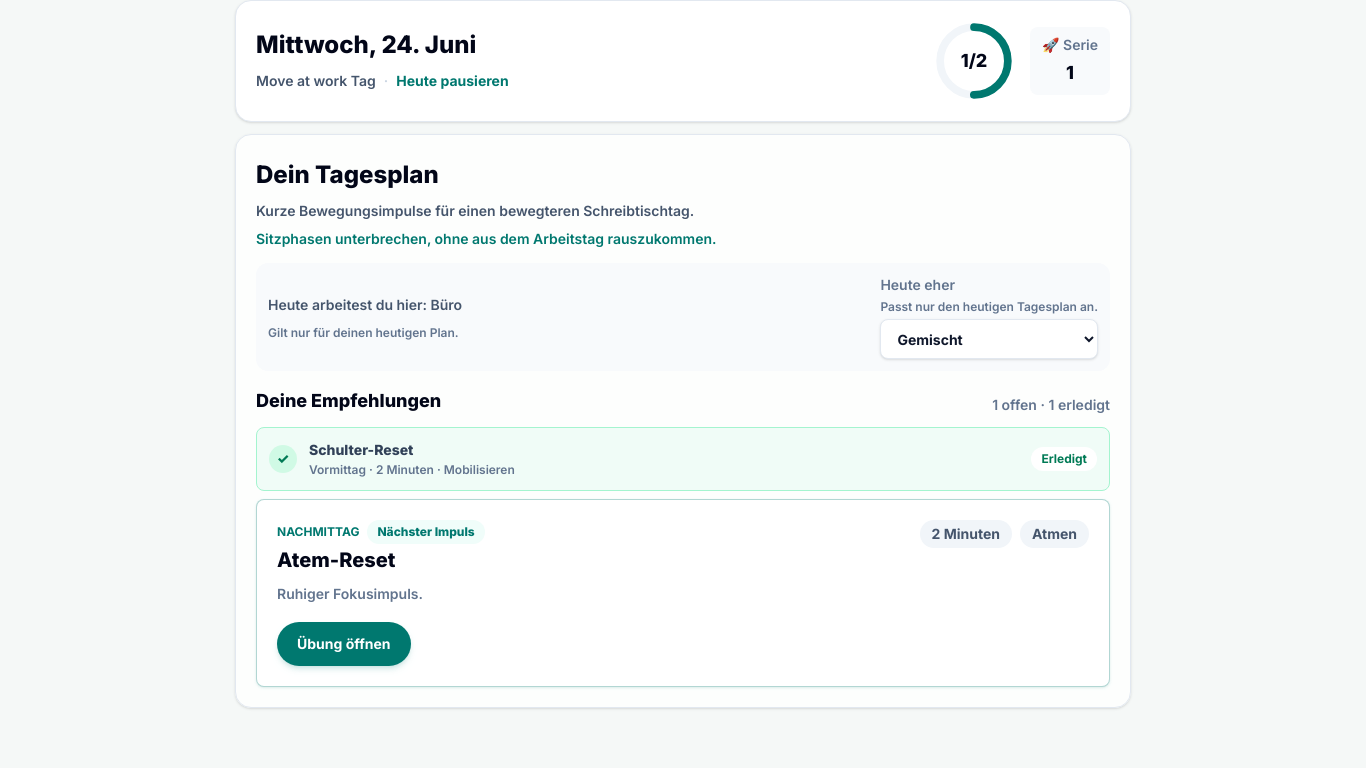
Test case: TodayScreen › keeps a completed exercise openable from the compact row
Click the button with aria-label "Erledigte Übung öffnen: Schulter-Reset" at (361, 450), box [256,427,1110,491]
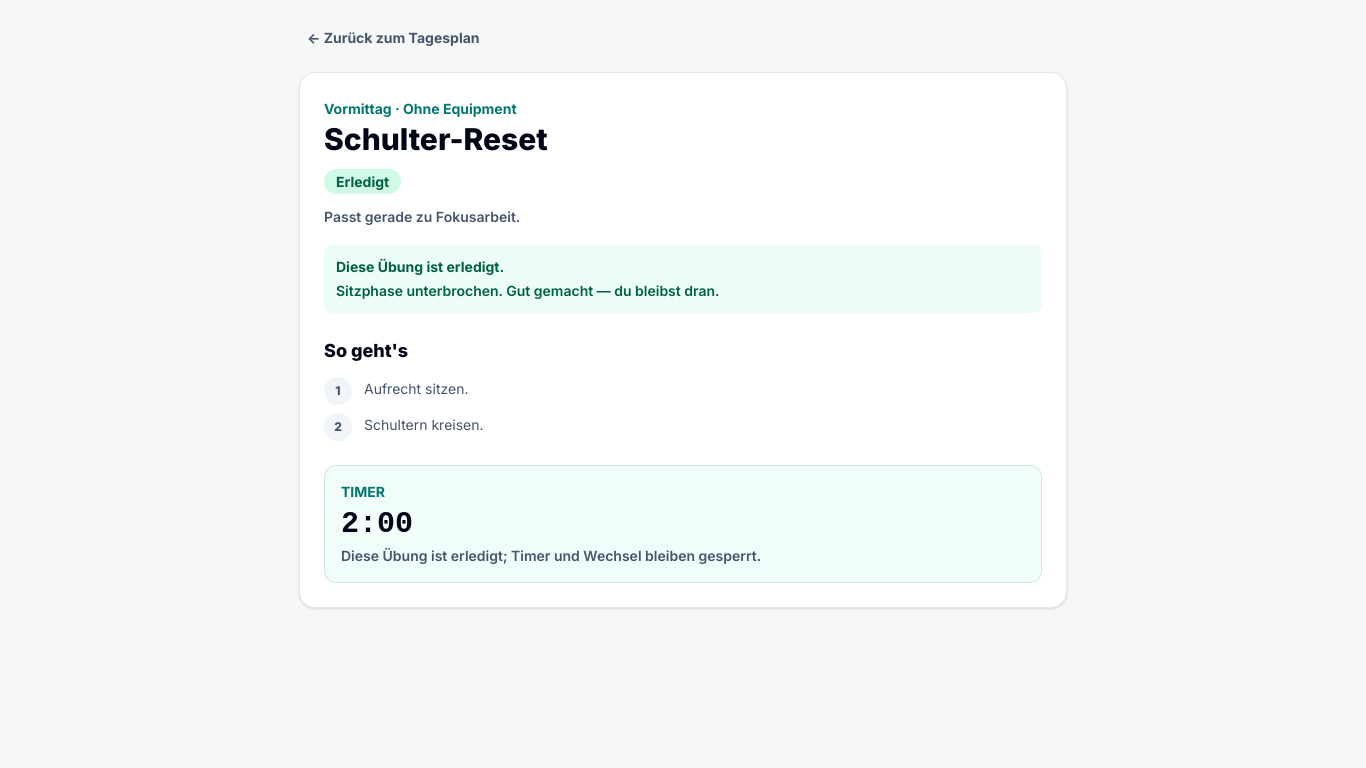
Now the text "Diese Übung ist erledigt." is shown, box [336,258,504,275]
Now the text "So geht" is shown, box [324,340,408,361]
